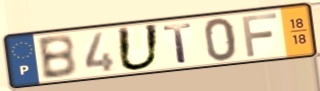0: (203, 16, 239, 63)
4: (82, 30, 117, 74)
B: (34, 33, 79, 82)
F: (239, 11, 280, 59)
T: (161, 21, 195, 65)
U: (116, 23, 162, 73)
